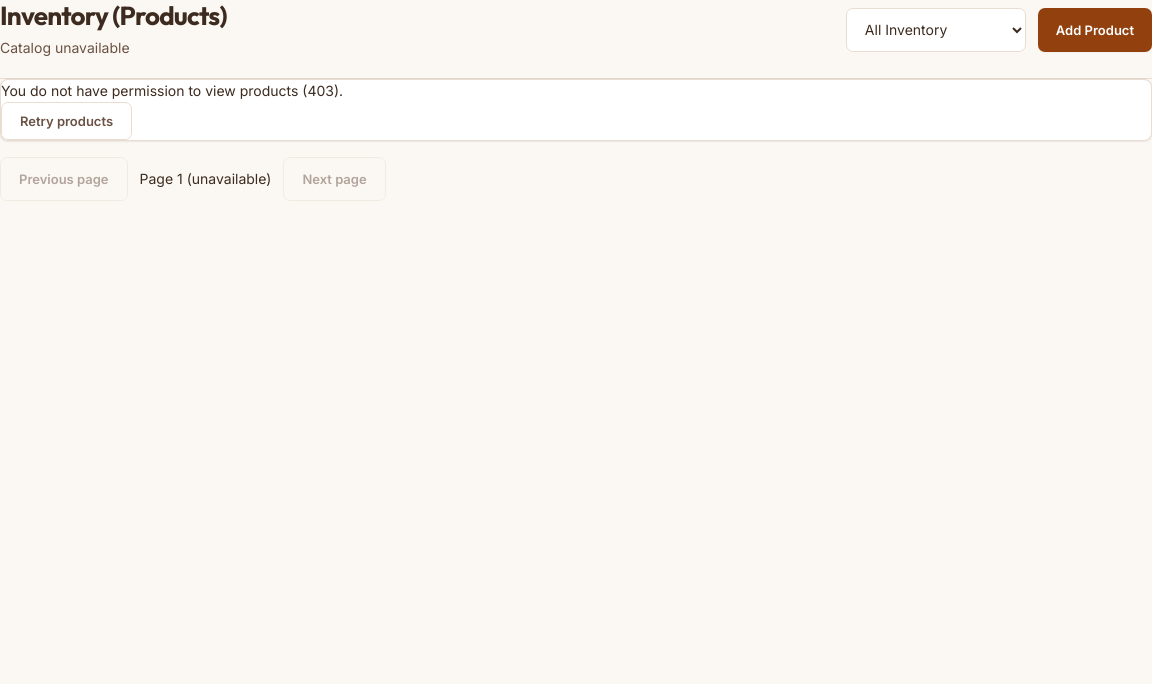
Test case: product list pagination through the real inventory client › shows 403 instead of an empty catalog and recovers only on a non-submitting retry
This screenshot has width=1152, height=684.
Expected: the message shows "403", [1,82,343,99]
Click the button "Retry products": (67, 121) [1,102,132,140]
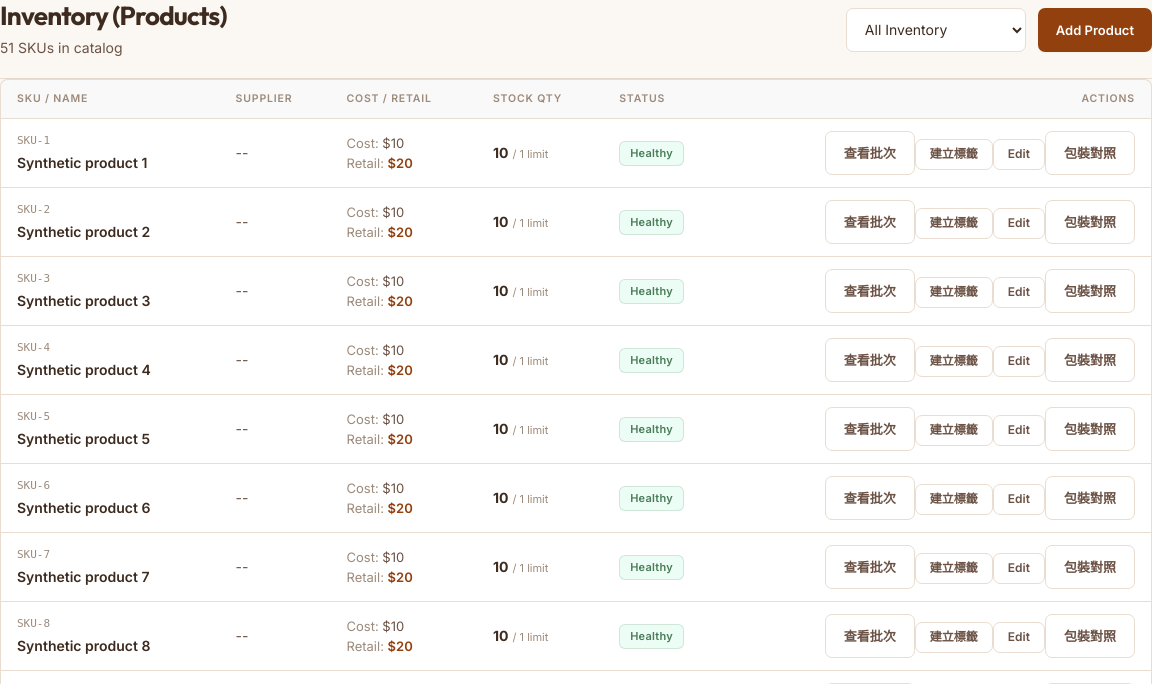
Now the text "Synthetic product 1" is shown, box [17,154,147,171]
